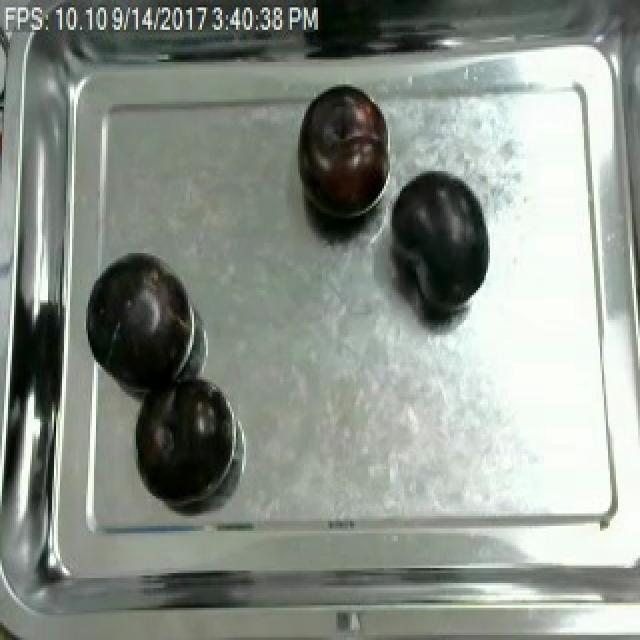Fruit: (382, 164, 498, 327), (84, 248, 196, 394), (292, 82, 394, 231), (134, 369, 232, 504)
